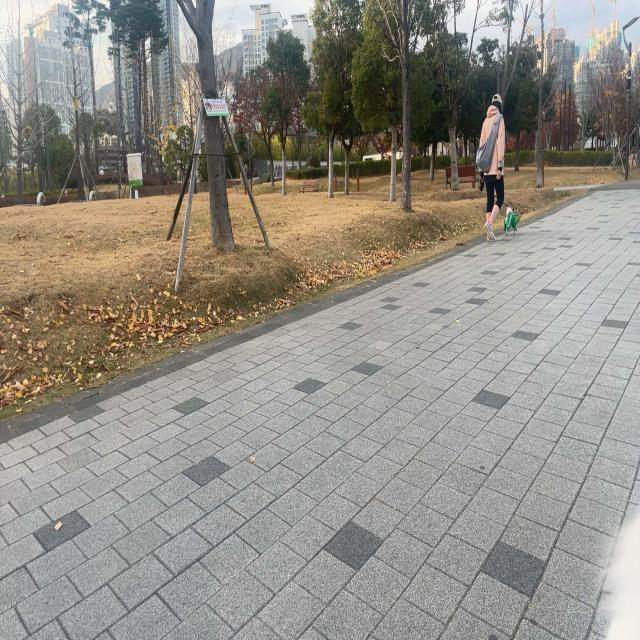Leashed_Dog: (484, 176, 520, 238)
